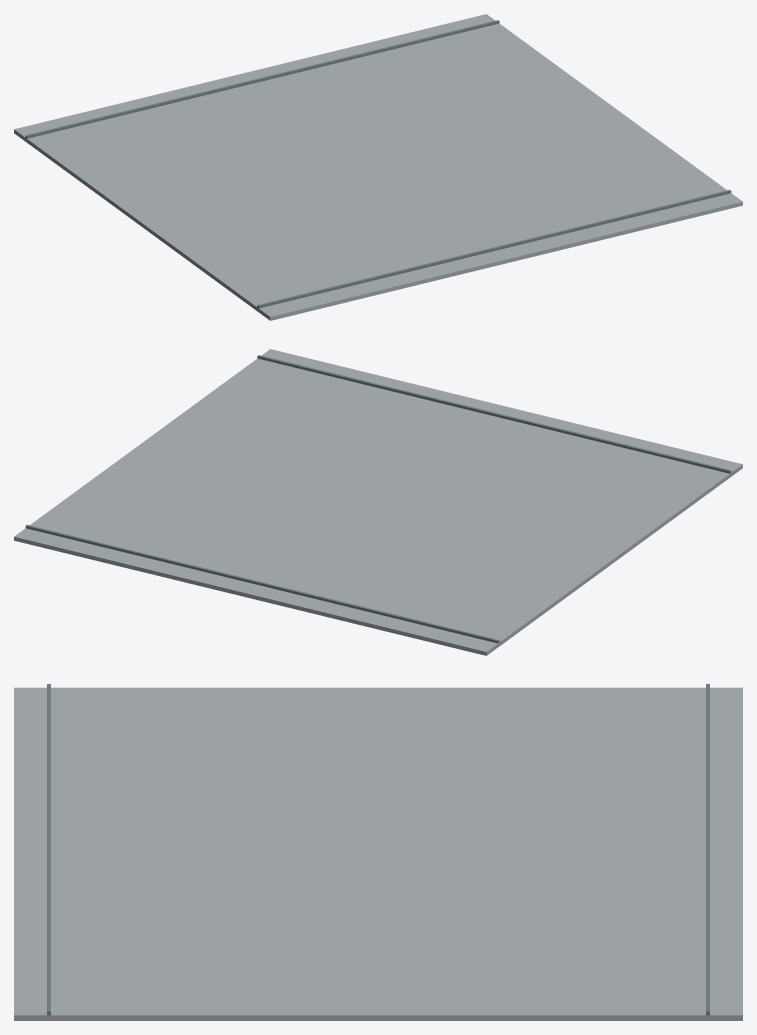
The model's file is PZ194_09_WorkshopRoof.glb.
3 views of the same model, one above another, from view 1: azimuth 30°, elevation 25°; view 2: azimuth 150°, elevation 25°; view 3: azimuth 270°, elevation 25° (orthographic). The views are drawn at different scales.
Visible parts, largest first — view 1: PZ194_09_WorkshopRoof_roof_panel_0, PZ194_09_WorkshopRoof_roof_panel_5, PZ194_09_WorkshopRoof_roof_panel_10, PZ194_09_WorkshopRoof_roof_panel_15, PZ194_09_WorkshopRoof_roof_flashing_0.5, PZ194_09_WorkshopRoof_roof_flashing_17.5; view 2: PZ194_09_WorkshopRoof_roof_panel_0, PZ194_09_WorkshopRoof_roof_panel_5, PZ194_09_WorkshopRoof_roof_panel_10, PZ194_09_WorkshopRoof_roof_panel_15, PZ194_09_WorkshopRoof_roof_flashing_17.5, PZ194_09_WorkshopRoof_roof_flashing_0.5; view 3: PZ194_09_WorkshopRoof_roof_panel_15, PZ194_09_WorkshopRoof_roof_panel_0, PZ194_09_WorkshopRoof_roof_panel_5, PZ194_09_WorkshopRoof_roof_panel_10, PZ194_09_WorkshopRoof_roof_flashing_0.5, PZ194_09_WorkshopRoof_roof_flashing_17.5.
Part boxes in pixels (left/top/right/bottom): PZ194_09_WorkshopRoof_roof_panel_0: left=14, top=100, right=388, bottom=320; PZ194_09_WorkshopRoof_roof_panel_5: left=132, top=71, right=506, bottom=291; PZ194_09_WorkshopRoof_roof_panel_10: left=251, top=43, right=624, bottom=262; PZ194_09_WorkshopRoof_roof_panel_15: left=368, top=14, right=742, bottom=234; PZ194_09_WorkshopRoof_roof_flashing_0.5: left=25, top=20, right=499, bottom=138; PZ194_09_WorkshopRoof_roof_flashing_17.5: left=257, top=190, right=731, bottom=308; PZ194_09_WorkshopRoof_roof_panel_0: left=368, top=435, right=742, bottom=655; PZ194_09_WorkshopRoof_roof_panel_5: left=250, top=406, right=624, bottom=626; PZ194_09_WorkshopRoof_roof_panel_10: left=132, top=378, right=505, bottom=597; PZ194_09_WorkshopRoof_roof_panel_15: left=14, top=349, right=388, bottom=569; PZ194_09_WorkshopRoof_roof_flashing_17.5: left=257, top=355, right=731, bottom=473; PZ194_09_WorkshopRoof_roof_flashing_0.5: left=25, top=525, right=499, bottom=643; PZ194_09_WorkshopRoof_roof_panel_15: left=14, top=933, right=742, bottom=1020; PZ194_09_WorkshopRoof_roof_panel_0: left=14, top=687, right=742, bottom=769; PZ194_09_WorkshopRoof_roof_panel_5: left=14, top=769, right=742, bottom=851; PZ194_09_WorkshopRoof_roof_panel_10: left=14, top=851, right=742, bottom=933; PZ194_09_WorkshopRoof_roof_flashing_0.5: left=706, top=684, right=709, bottom=1015; PZ194_09_WorkshopRoof_roof_flashing_17.5: left=47, top=684, right=50, bottom=1015.
Size of the model in its own units: 20 by 0.26 by 18.8.
